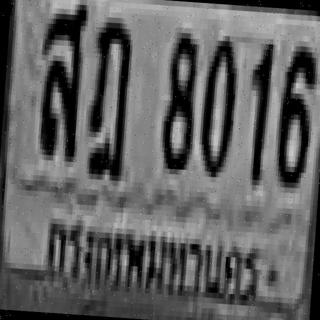A14: (84, 11, 132, 175)
A40: (34, 0, 87, 157)
N00: (197, 29, 237, 172)
N01: (243, 38, 274, 180)
N06: (274, 40, 316, 183)
N08: (158, 26, 198, 170)
P04: (41, 205, 266, 317)
